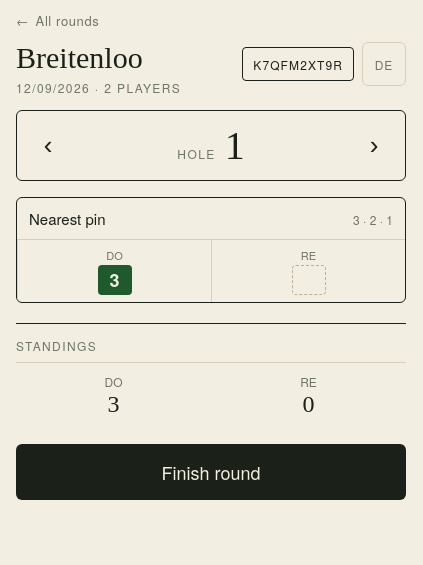
Test: LiveRound › keeps drafts on separate holes apart
Click the button with test id "cell-c1-p2": (308, 270) [211,240,405,302]
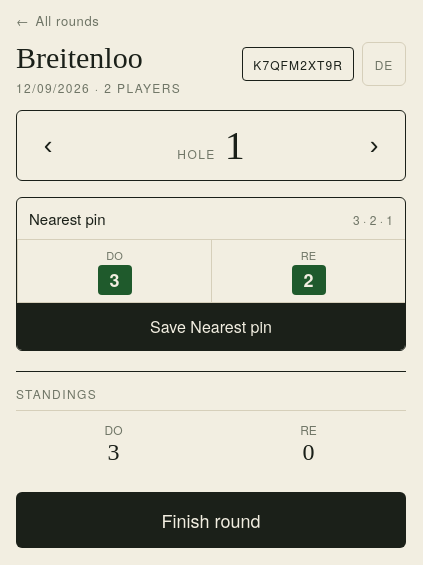
Click the button named "next hole": (374, 145) [343,114,405,176]
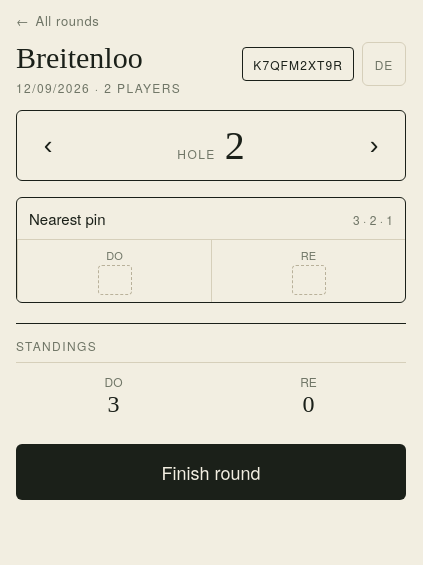
Expected: the element with test id "cell-c1-p1" does not show "3"
Expected: the button with test id "save-c1" is gone
